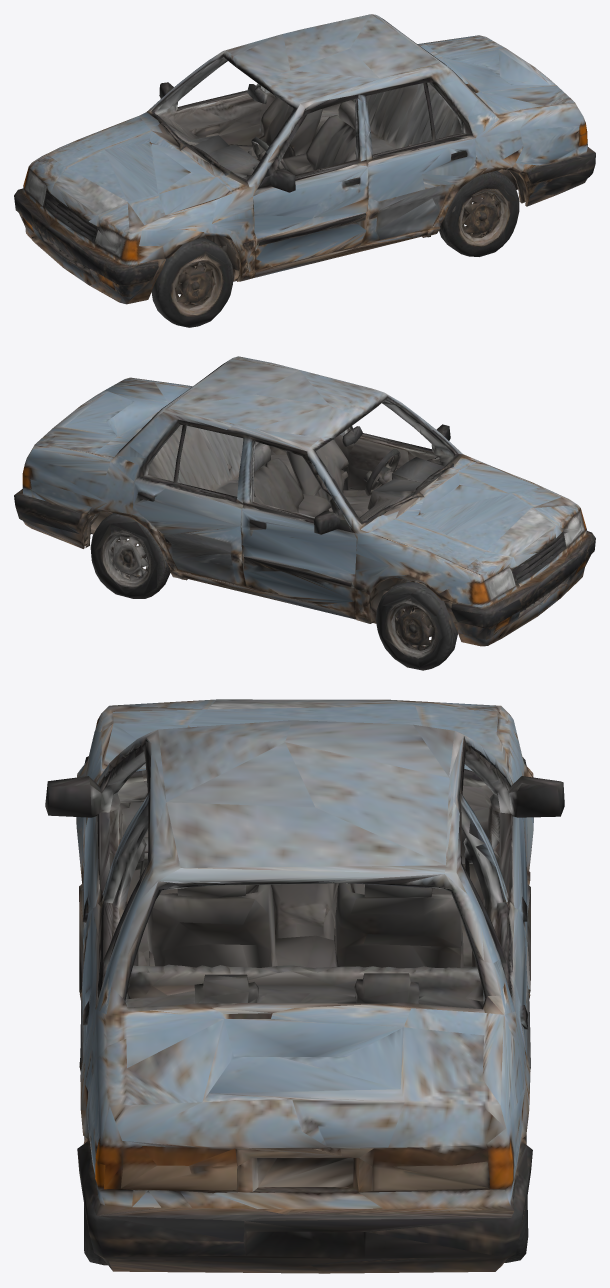
Rendered from rusty-sedan.glb.
The picture shows the model from 3 angles, top to bottom: view 1: azimuth 30°, elevation 25°; view 2: azimuth 150°, elevation 25°; view 3: azimuth 270°, elevation 25°; orthographic projection. The views are drawn at different scales.
Parts seen in each view (by area): view 1: body, driver-door, wheel--1-1, wheel-1-1; view 2: body, wheel--1--1, wheel-1--1, driver-door; view 3: body, driver-door.
Part boxes in pixels (bbox=[...]): body: bbox=[14, 14, 595, 304]; driver-door: bbox=[244, 102, 383, 264]; wheel--1-1: bbox=[151, 240, 233, 327]; wheel-1-1: bbox=[438, 173, 519, 256]; body: bbox=[14, 356, 595, 646]; wheel--1--1: bbox=[375, 581, 458, 670]; wheel-1--1: bbox=[90, 514, 170, 598]; driver-door: bbox=[333, 400, 453, 490]; body: bbox=[76, 699, 564, 1273]; driver-door: bbox=[45, 737, 142, 1006].
Bounding box in the file's own units: 4.49 × 1.65 × 2.07.
1 material, 1 textured.
